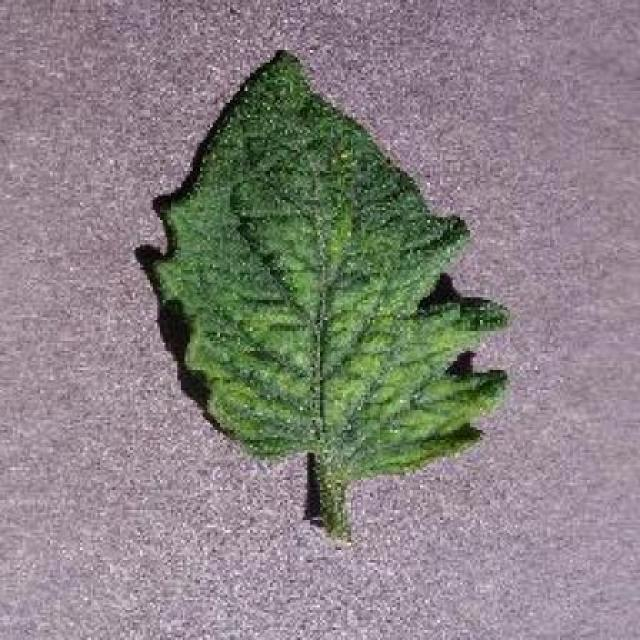Mosaic Virus: (152, 49, 515, 477)
